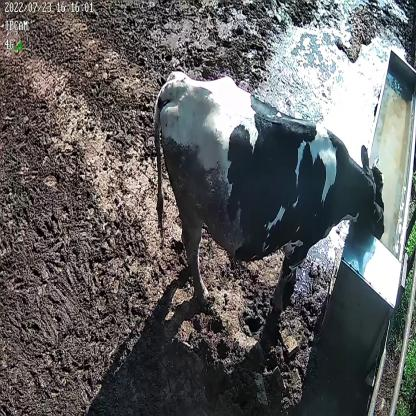cow: (151, 66, 387, 310)
